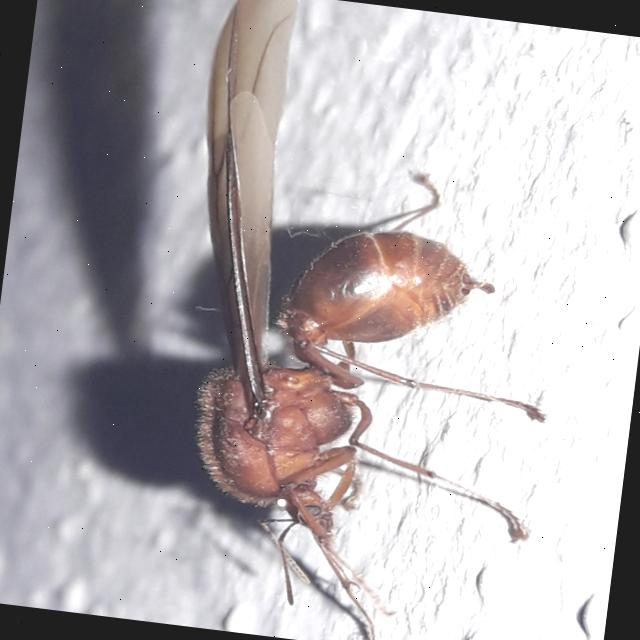Alive-Male-Alate: (139, 0, 594, 640)
